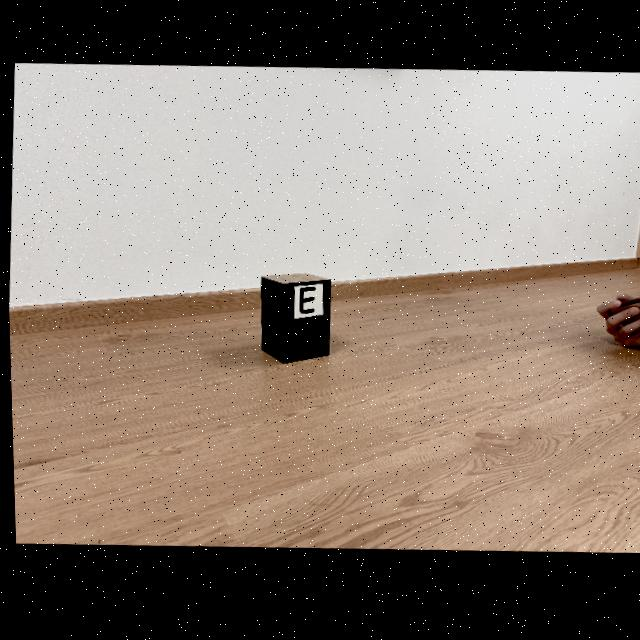E: (297, 289, 315, 317)
